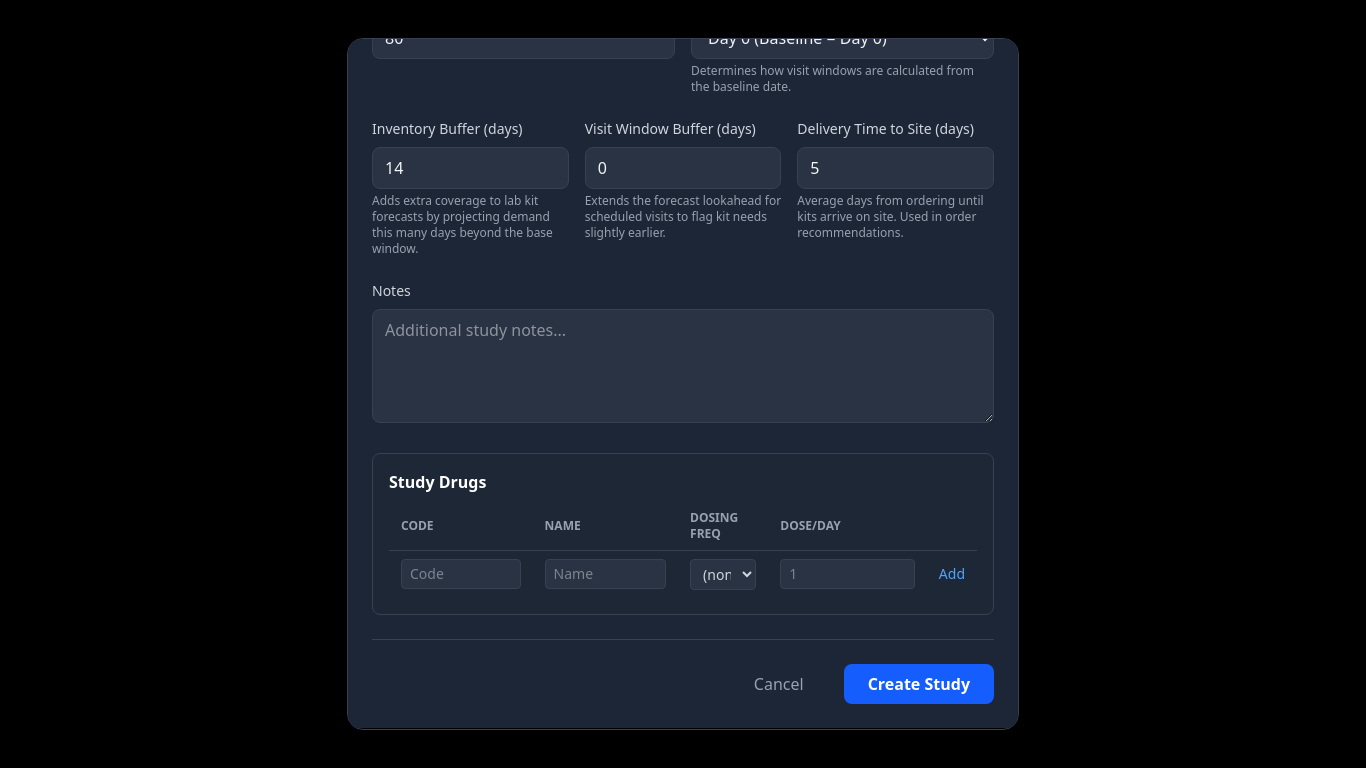
Test: AddStudyForm › clears validation errors when user starts typing
(page scrolled)
Trigger validation error
Click the button "Create Study" at {"x": 919, "y": 684}, box x1=844 y1=664 x2=994 y2=704
(page scrolled)
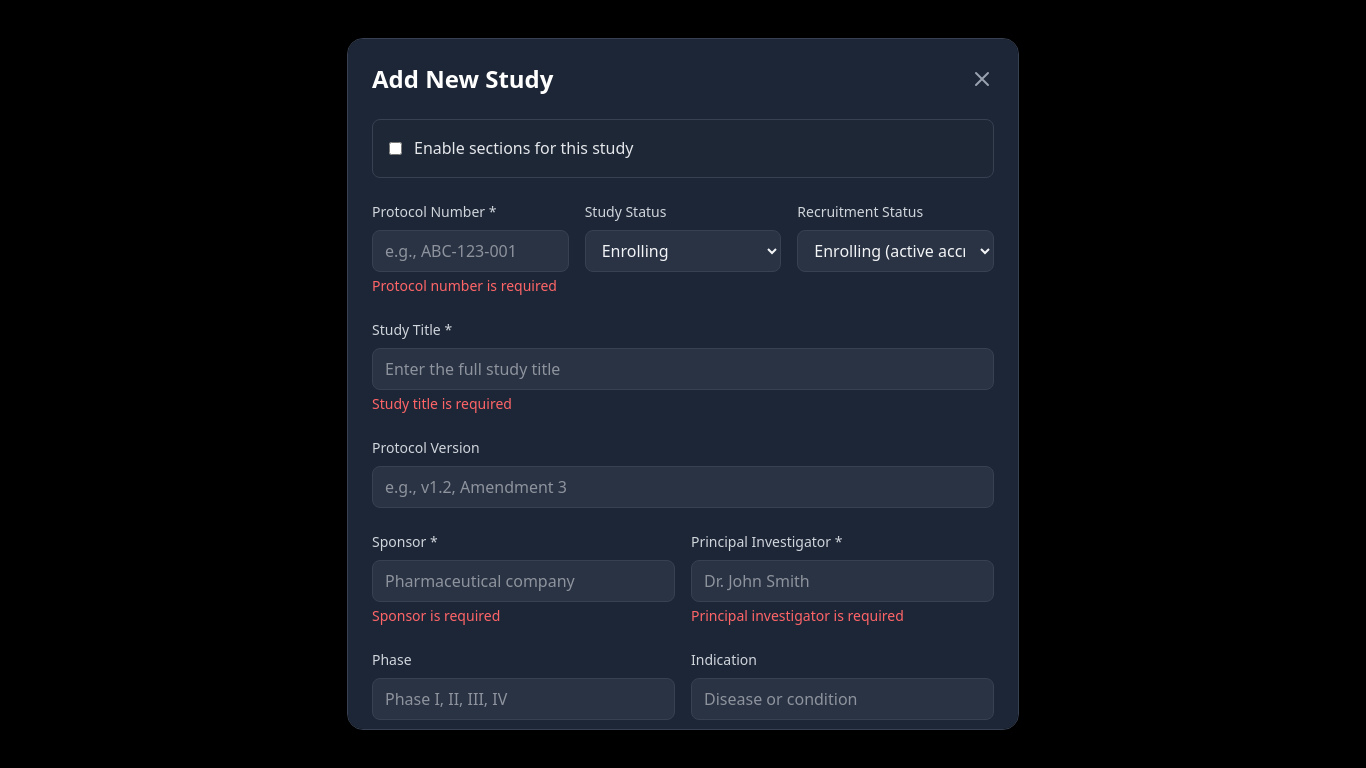
Check: the text "Protocol number is required" is shown, box x1=372 y1=276 x2=569 y2=296
Start typing to clear error
Type "ABC-123" into the field with placeholder "e.g., ABC-123-001" at {"x": 470, "y": 251}, box x1=372 y1=230 x2=569 y2=272
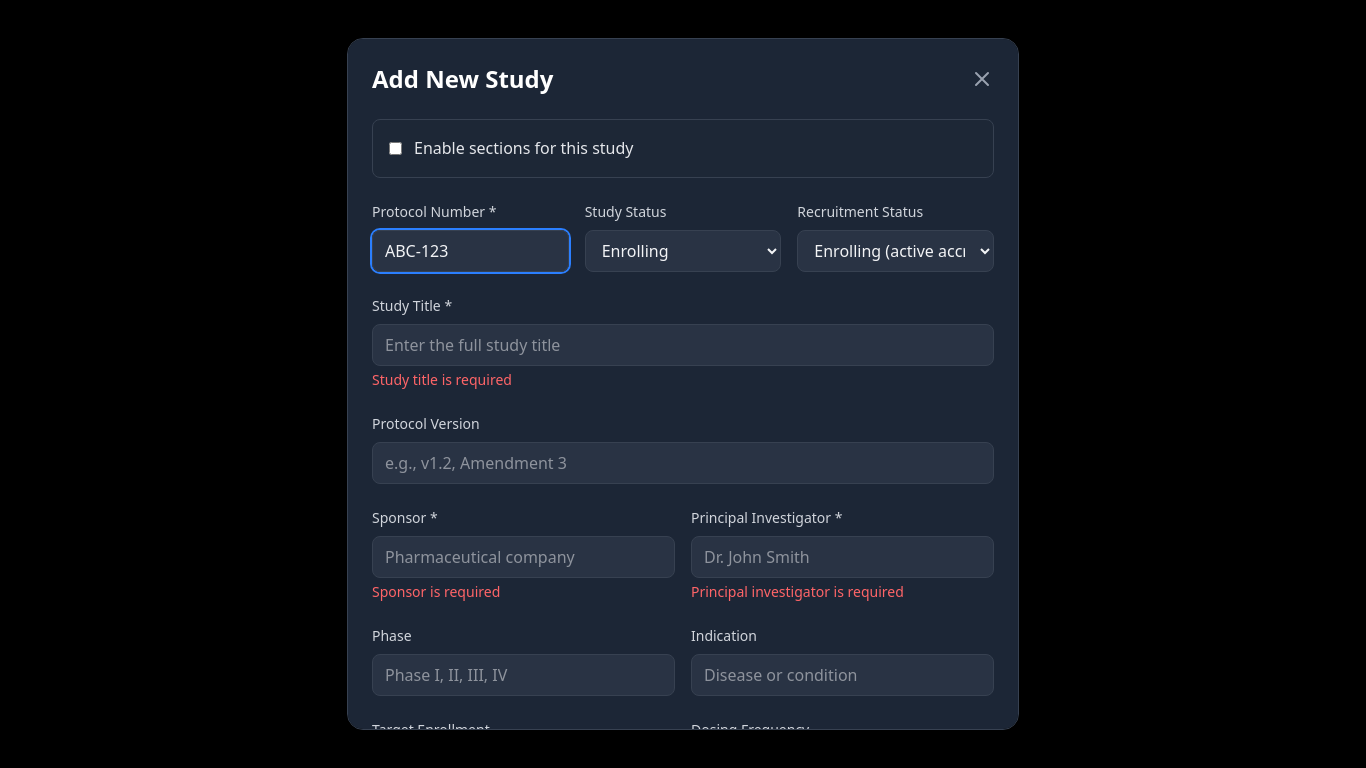
Check: the text "Protocol number is required" is gone
